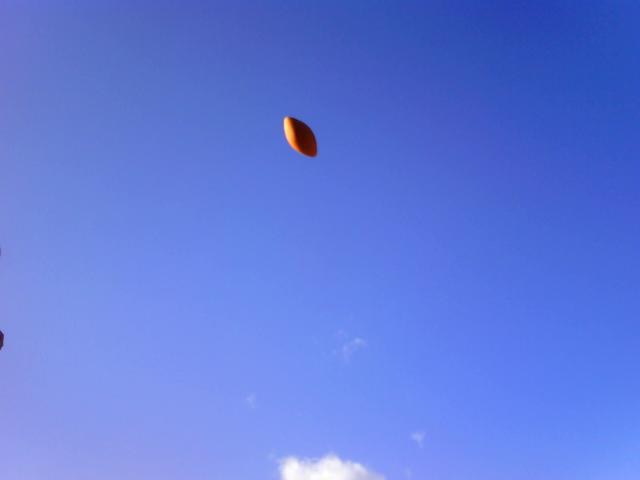football: (280, 113, 321, 162)
